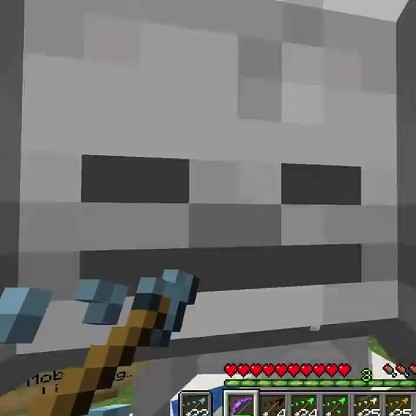skeleton: (20, 3, 400, 326)
